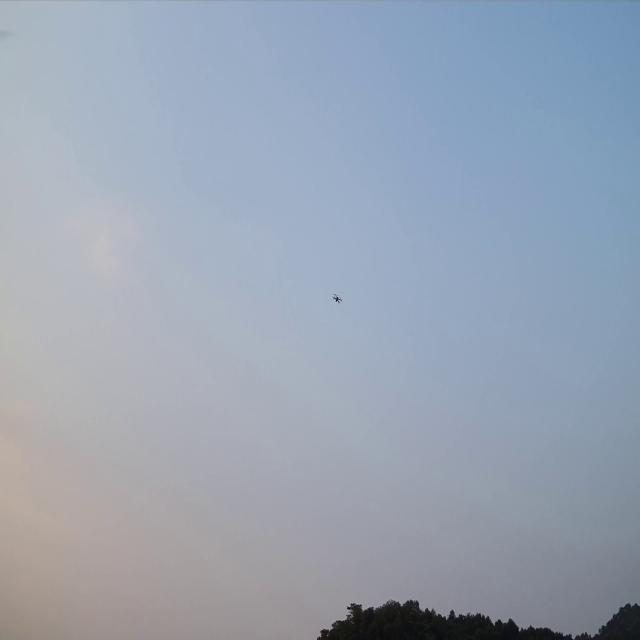UAV: (332, 293, 342, 305)
